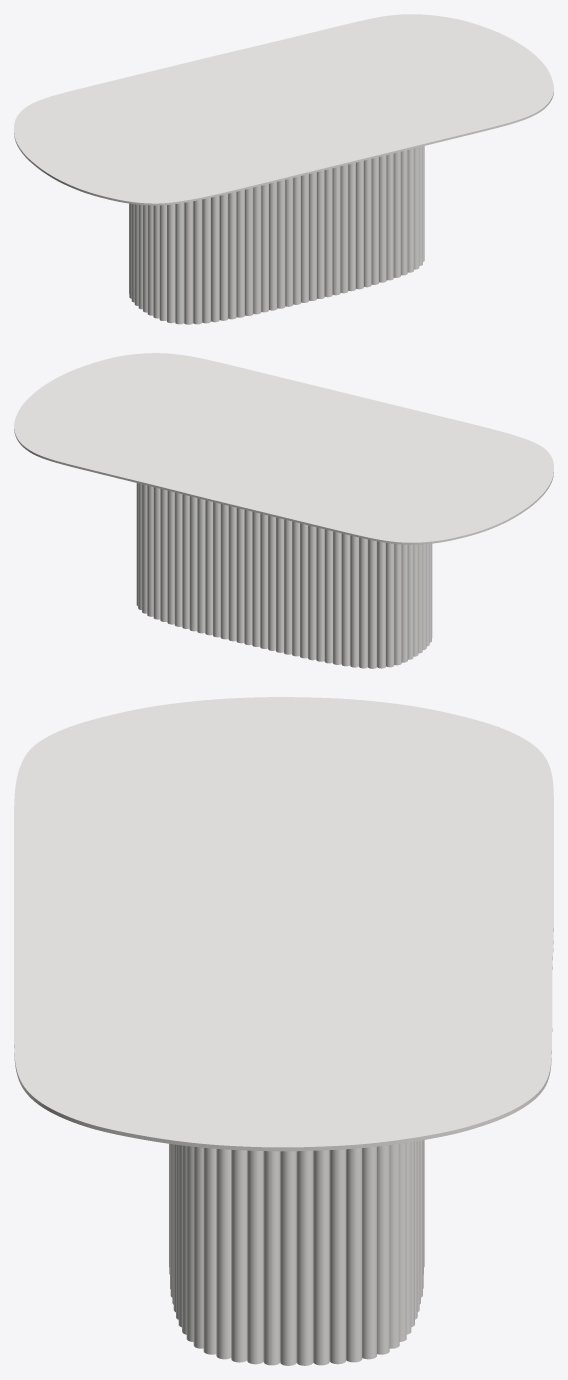
File: purewhite_oval_facet_newtable.glb
3 views of the same model, one above another, from view 1: azimuth 30°, elevation 25°; view 2: azimuth 150°, elevation 25°; view 3: azimuth 270°, elevation 25° (orthographic). The views are drawn at different scales.
Parts seen in each view (by area): view 1: facet_oval, newtable; view 2: facet_oval, newtable; view 3: facet_oval, newtable.
Boxes of the visible parts, <box> form: facet_oval: <box>14,14,553,205</box>; newtable: <box>129,146,424,324</box>; facet_oval: <box>14,353,553,544</box>; newtable: <box>136,483,432,668</box>; facet_oval: <box>14,697,553,1151</box>; newtable: <box>169,1140,424,1365</box>.
Bounding box in the file's own units: 7.5 × 2.5 × 3.8.
2 materials, 2 textured.
